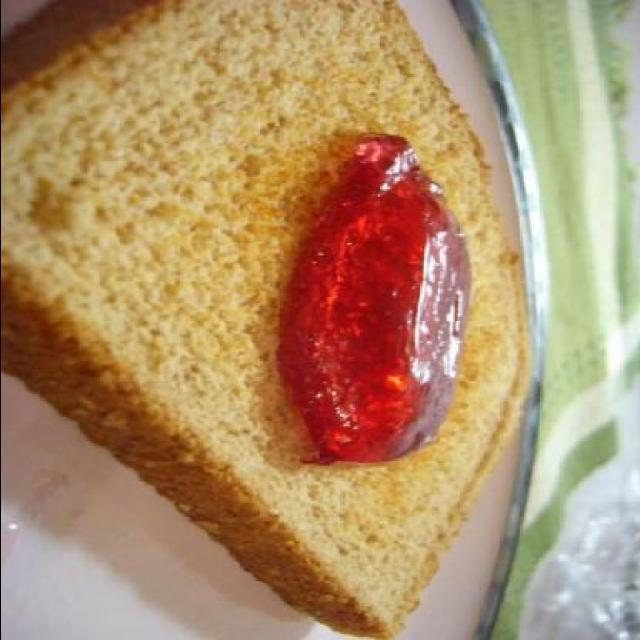Spread: (282, 128, 470, 478)
